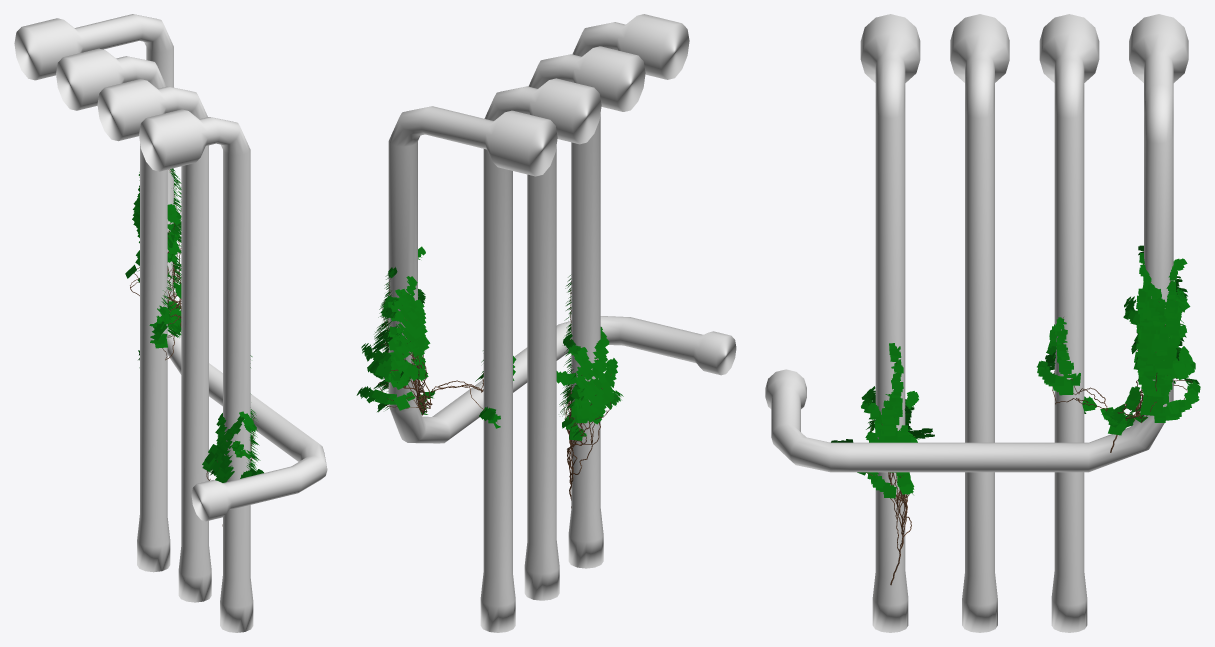
File: Pipes_Ivy.fbx
3 views of the same model, side by side, from view 1: azimuth 30°, elevation 25°; view 2: azimuth 150°, elevation 25°; view 3: azimuth 270°, elevation 25° (orthographic). The views are drawn at different scales.
Parts seen in each view (by area): view 1: New Geometry.014, New Geometry.009, New Geometry.007, New Geometry.008; view 2: New Geometry.014, New Geometry.009, New Geometry.007, New Geometry.008, New Geometry.006; view 3: New Geometry.014, New Geometry.009, New Geometry.007, New Geometry.006, New Geometry.008.
Boxes of the visible parts, bbox=[...] form: New Geometry.014: bbox=[14, 14, 327, 632]; New Geometry.009: bbox=[125, 168, 181, 367]; New Geometry.007: bbox=[202, 355, 263, 482]; New Geometry.008: bbox=[130, 170, 181, 360]; New Geometry.014: bbox=[388, 14, 736, 632]; New Geometry.009: bbox=[356, 246, 516, 428]; New Geometry.007: bbox=[556, 275, 623, 440]; New Geometry.008: bbox=[374, 277, 497, 422]; New Geometry.006: bbox=[563, 281, 617, 507]; New Geometry.014: bbox=[765, 14, 1188, 632]; New Geometry.009: bbox=[1037, 245, 1200, 435]; New Geometry.007: bbox=[831, 343, 934, 498]; New Geometry.006: bbox=[866, 362, 932, 585]; New Geometry.008: bbox=[1052, 264, 1192, 452].
Size of the model in its own units: 146 by 68.18 by 210.
